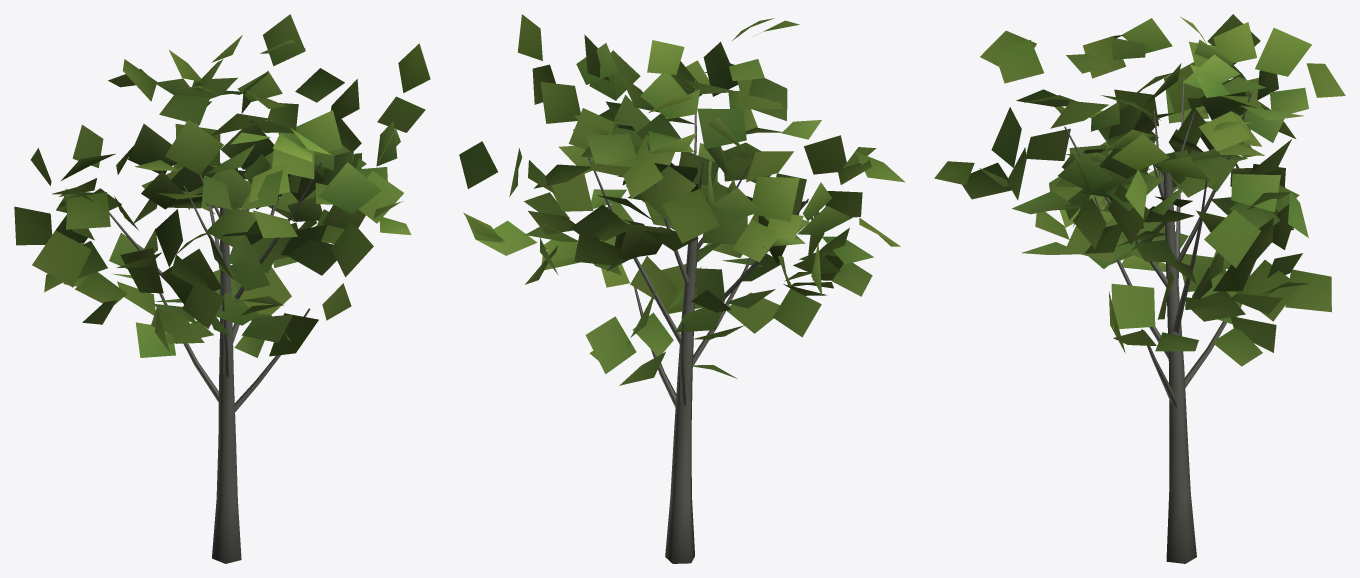
Rendered from beech-c.lod2.glb.
3 views of the same model, side by side, from view 1: azimuth 30°, elevation 25°; view 2: azimuth 150°, elevation 25°; view 3: azimuth 270°, elevation 25° (orthographic). The views are drawn at different scales.
Bounding box in the file's own units: 11.36 × 14.6 × 9.99.
